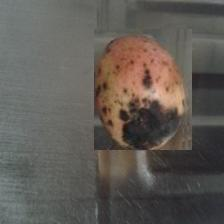Mango Semirotten: (94, 29, 192, 150)
